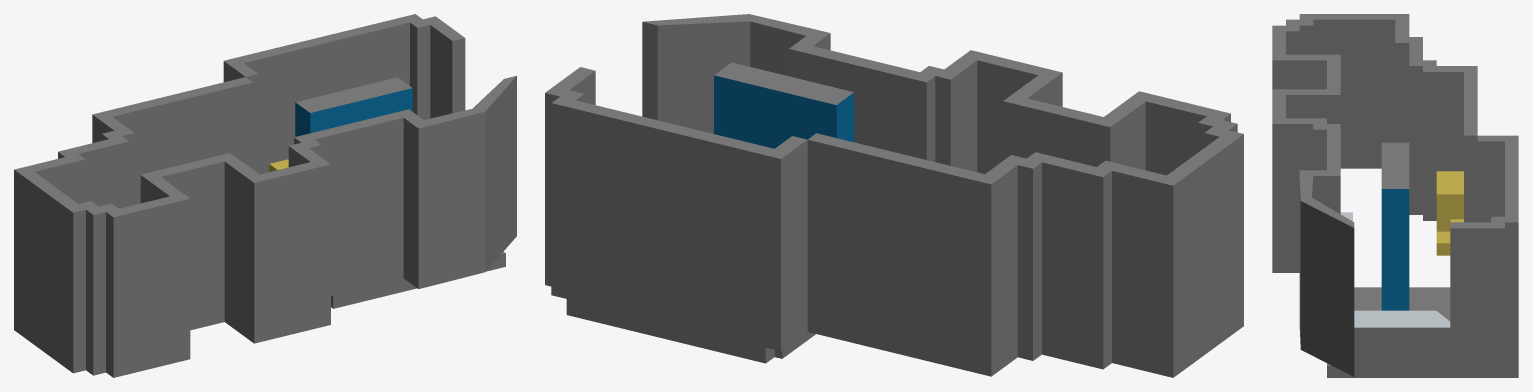
File: Level 1.fbx
The picture shows the model from 3 angles, left to right: view 1: azimuth 30°, elevation 25°; view 2: azimuth 150°, elevation 25°; view 3: azimuth 270°, elevation 25°; orthographic projection. The views are drawn at different scales.
Parts seen in each view (by area): view 1: Level_1; view 2: Level_1; view 3: Level_1.
Part boxes in pixels (x1=…): Level_1: x1=14, y1=14, x2=516, y2=377; Level_1: x1=545, y1=14, x2=1243, y2=377; Level_1: x1=1272, y1=14, x2=1518, y2=377.
Bounding box in the file's own units: 3700 × 1300 × 1800.
